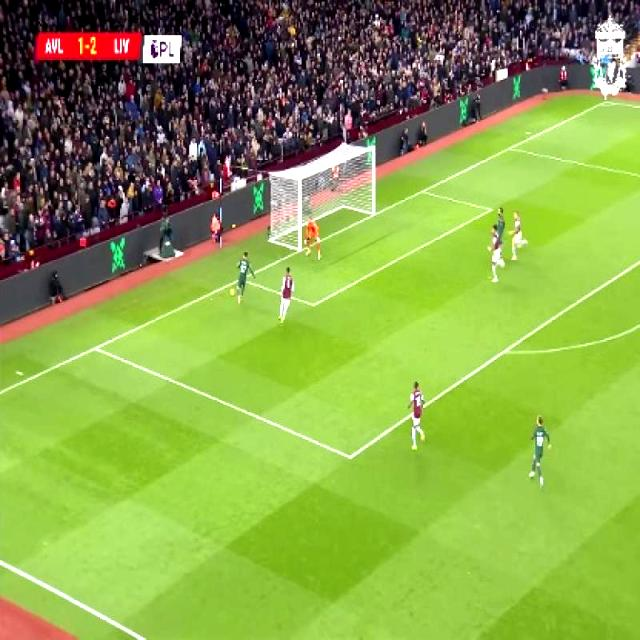bigarea_bottom_inner: (338, 441, 360, 471)
bigarea_bottom_outter: (86, 337, 104, 358)
bigarea_top_outter: (503, 138, 517, 156)
bottom_arc_area_intersection: (494, 337, 516, 363)
corner: (597, 94, 615, 109)
smallarea_bottom_inner: (304, 290, 322, 316)
smallarea_top_inner: (482, 198, 498, 218)
smallarea_top_outter: (414, 180, 431, 200)
